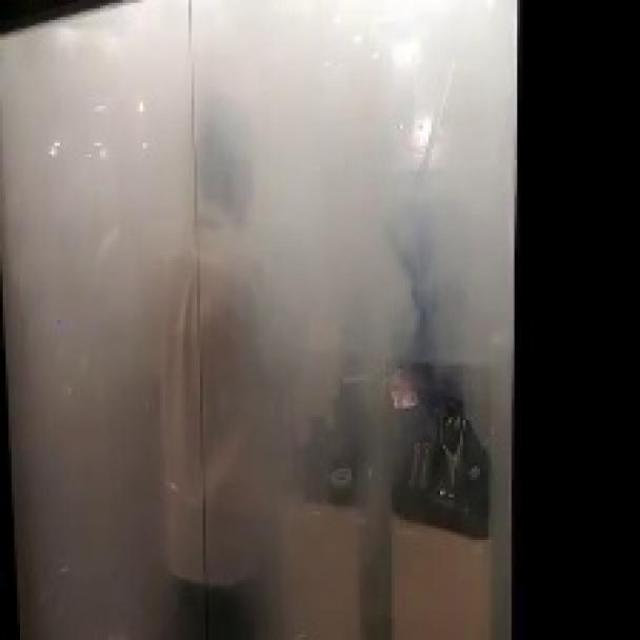Smoke: (242, 39, 505, 362)
